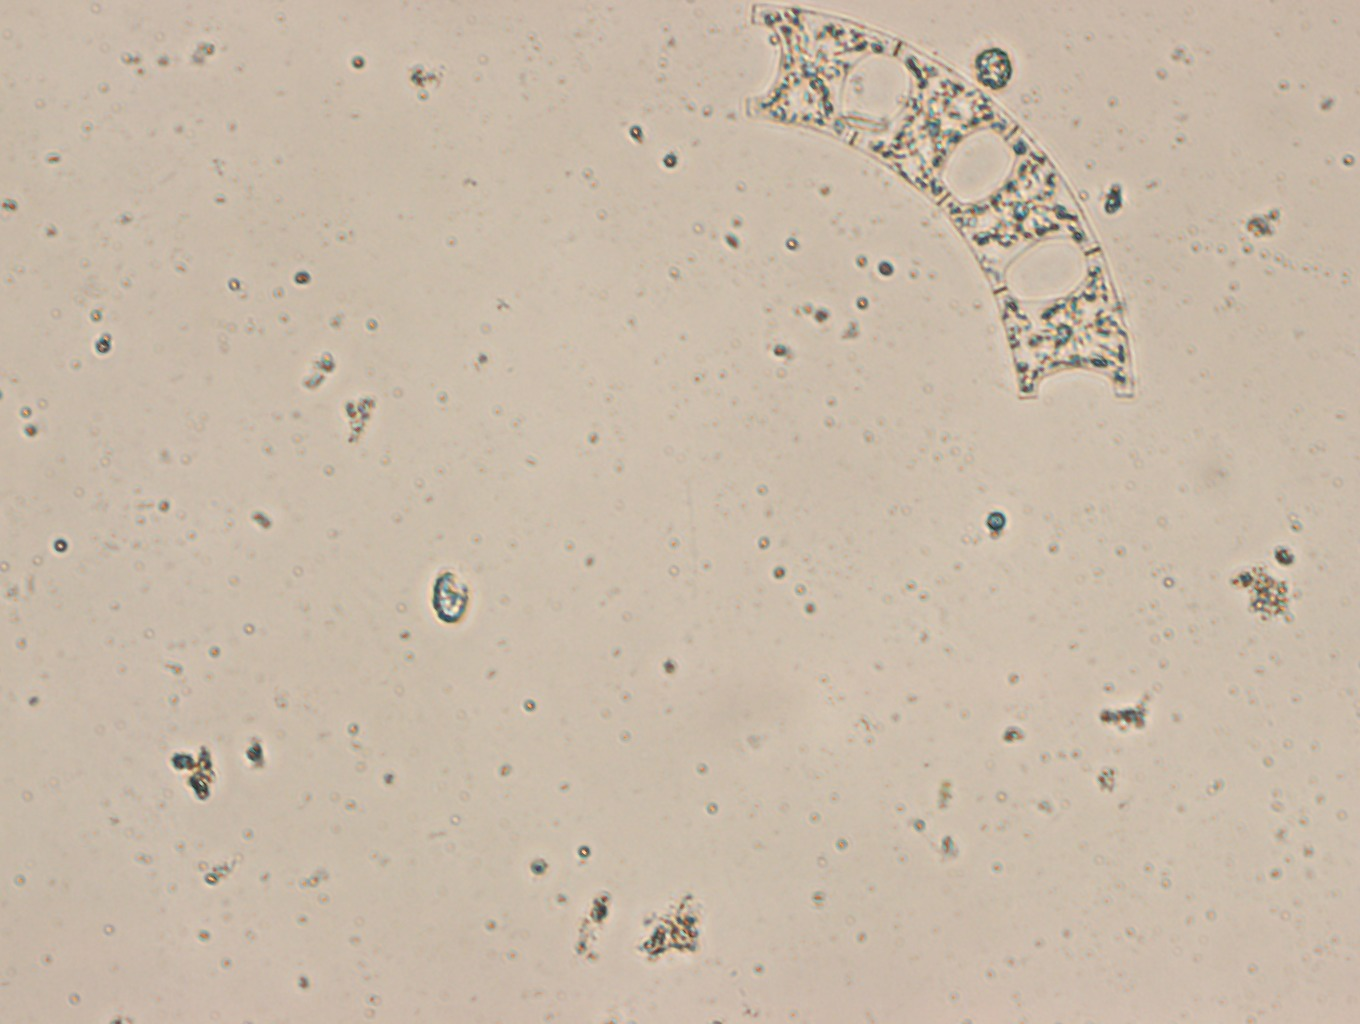eucampia: (742, 1, 1139, 411)
